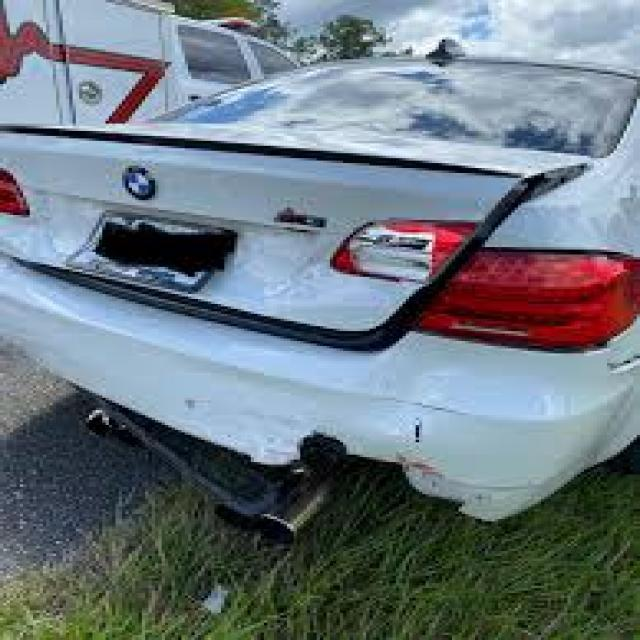damaged-trunk: (3, 110, 560, 331)
